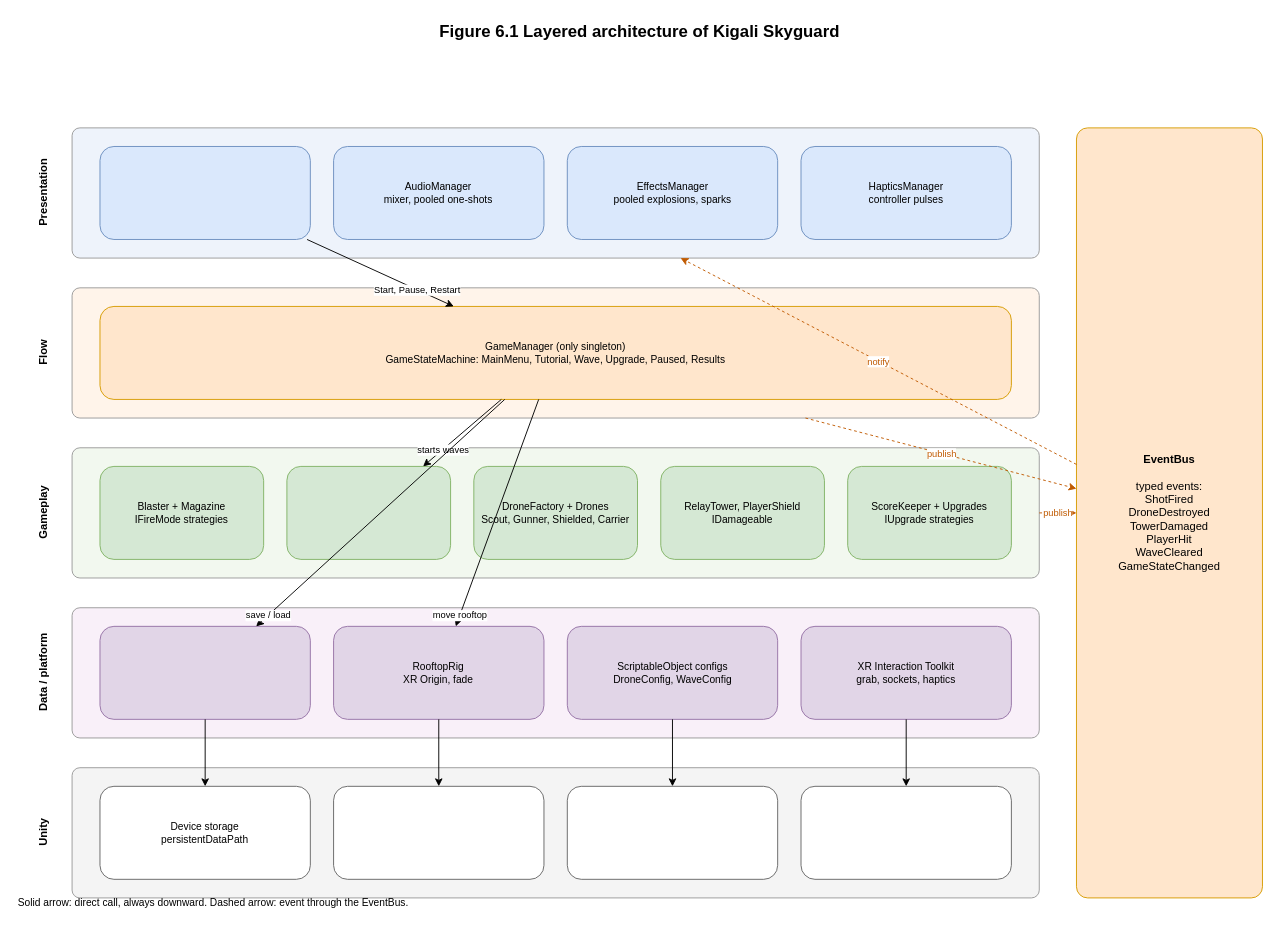
Some shapes in this 1279 by 928 pixel diagram are drawn without their labels. Each missing label, with the centre of its shape:
"IL2CPP, ARM64 Android build" belongs at [905,832].
"LeaderboardRepository JSON save data" belongs at [204,672].
"OpenXR + Meta Quest features" belongs at [438,832].
"UIManager wrist menu, banners, subtitles" belongs at [204,192].
"Unity 6 LTS, URP Addressables" belongs at [672,832].
"WaveManager waves from WaveConfig" belongs at [368,512].
